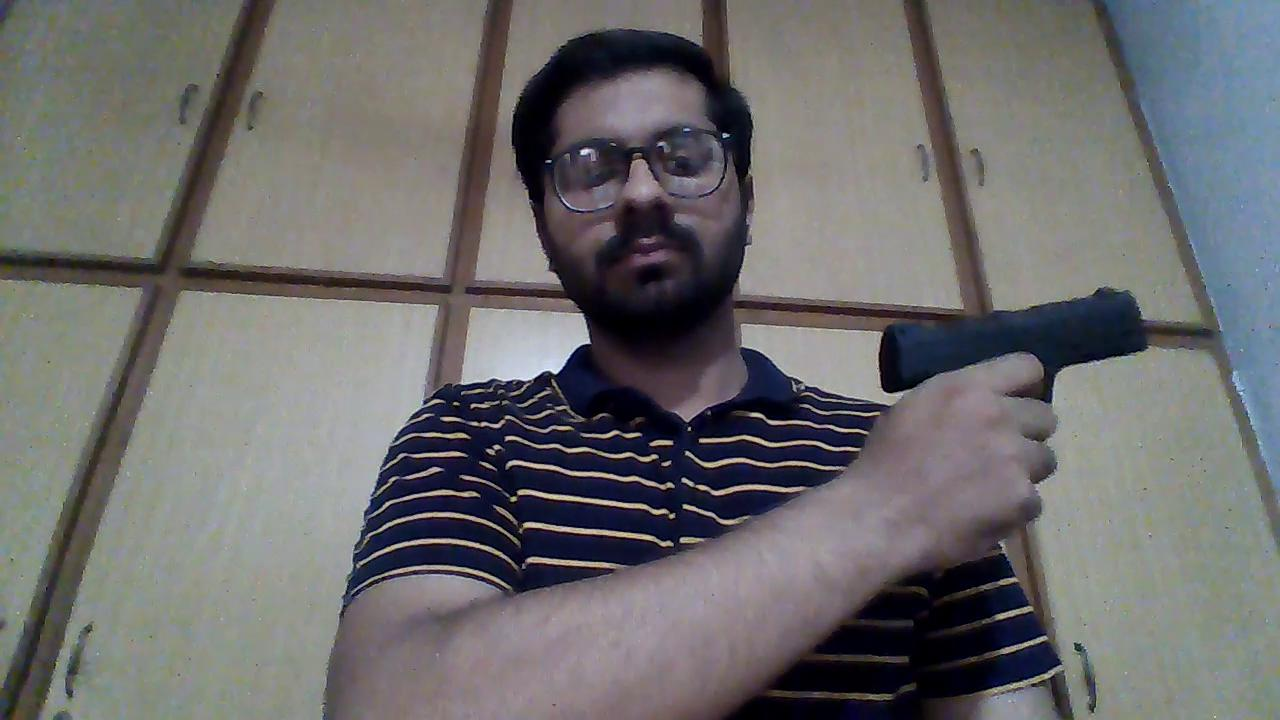criminal: (324, 25, 1151, 720)
weapon: (874, 285, 1151, 411)
